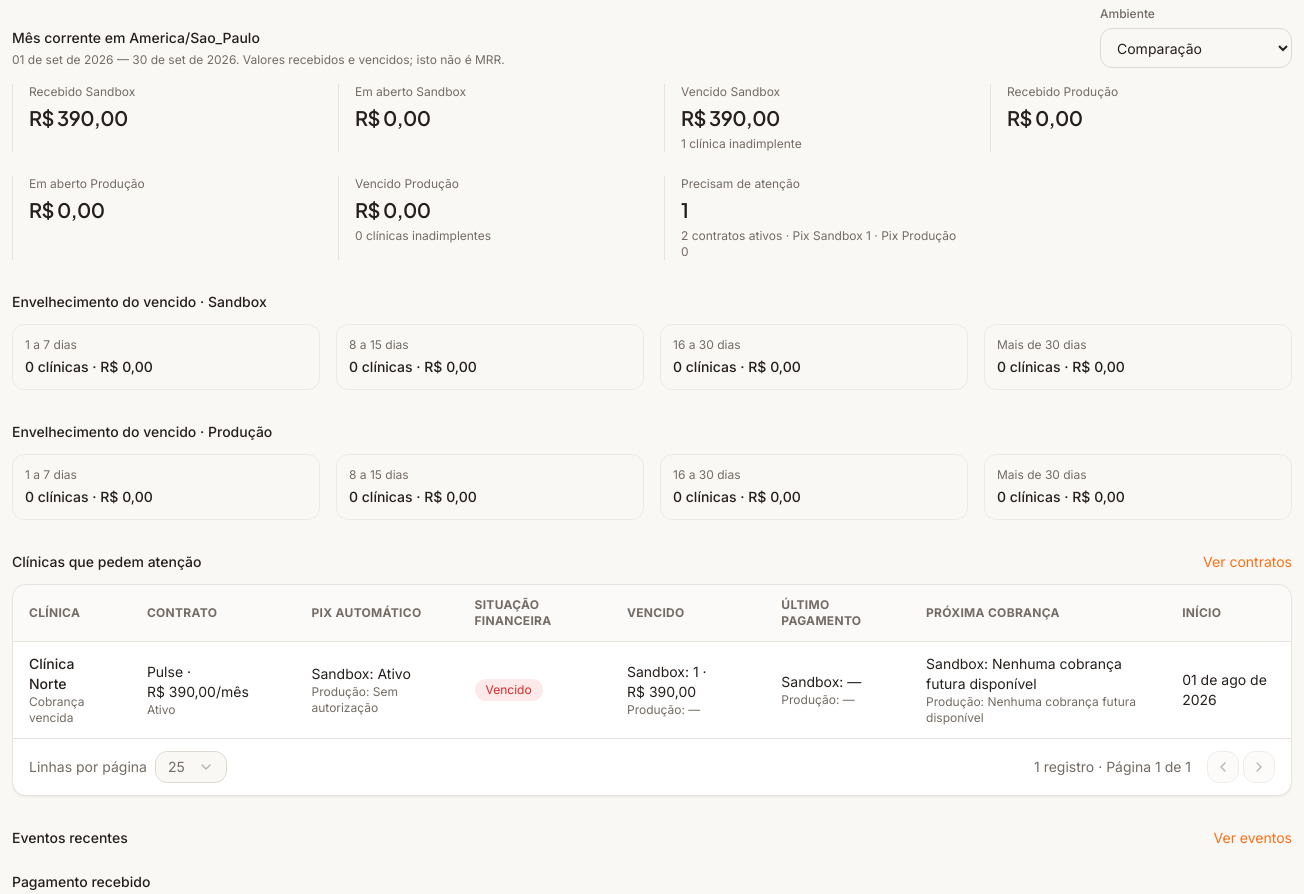
PlatformBillingOverviewPage › production filter hides Sandbox provider aging
Select "Produção" in the dropdown labelled "Ambiente": [1196, 48] box left=1100, top=28, right=1292, bottom=68
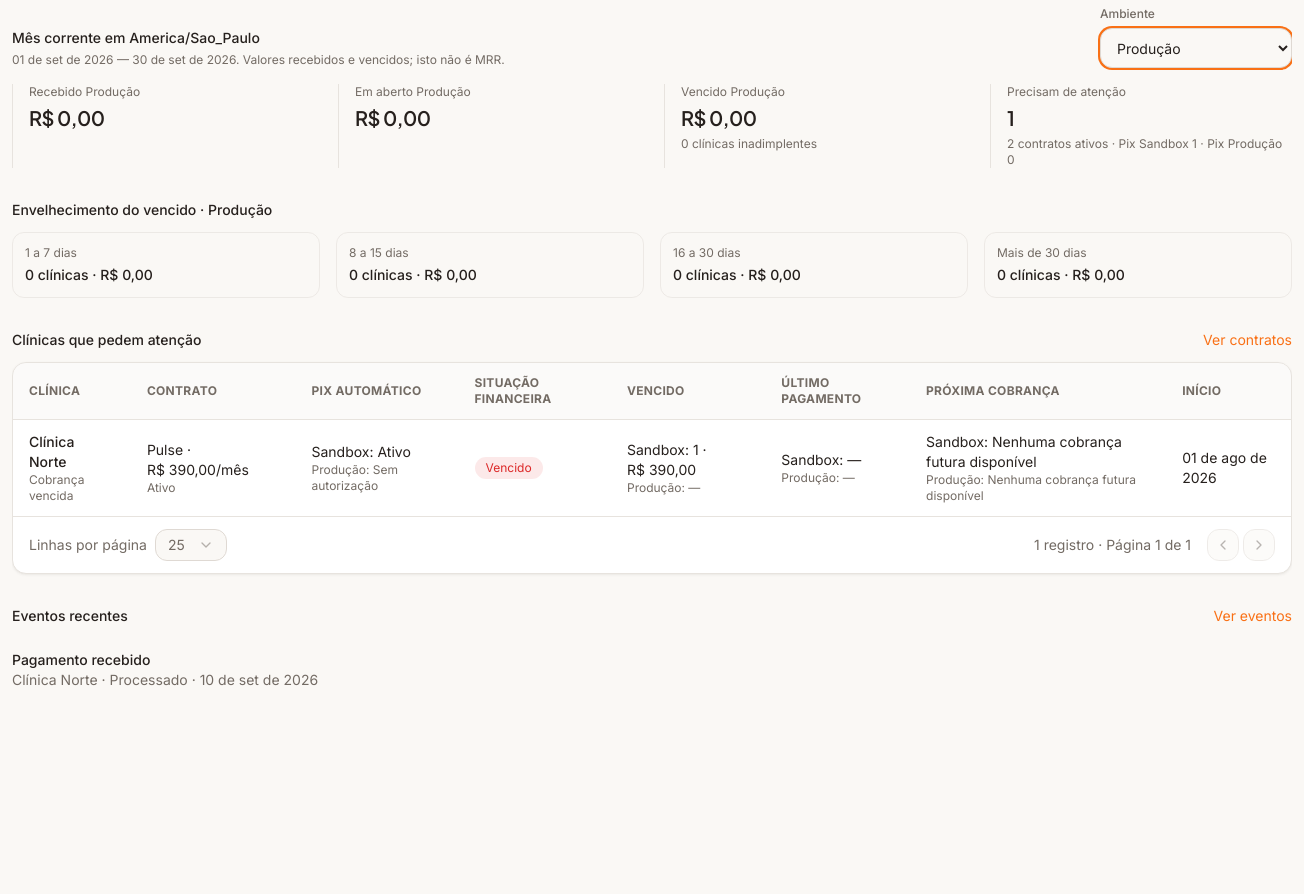
Expected: the heading "Envelhecimento do vencido · Produção" is shown, left=12, top=201, right=272, bottom=218
Now the heading "Envelhecimento do vencido · Sandbox" is gone
Now the text "Recebido Sandbox" is gone
